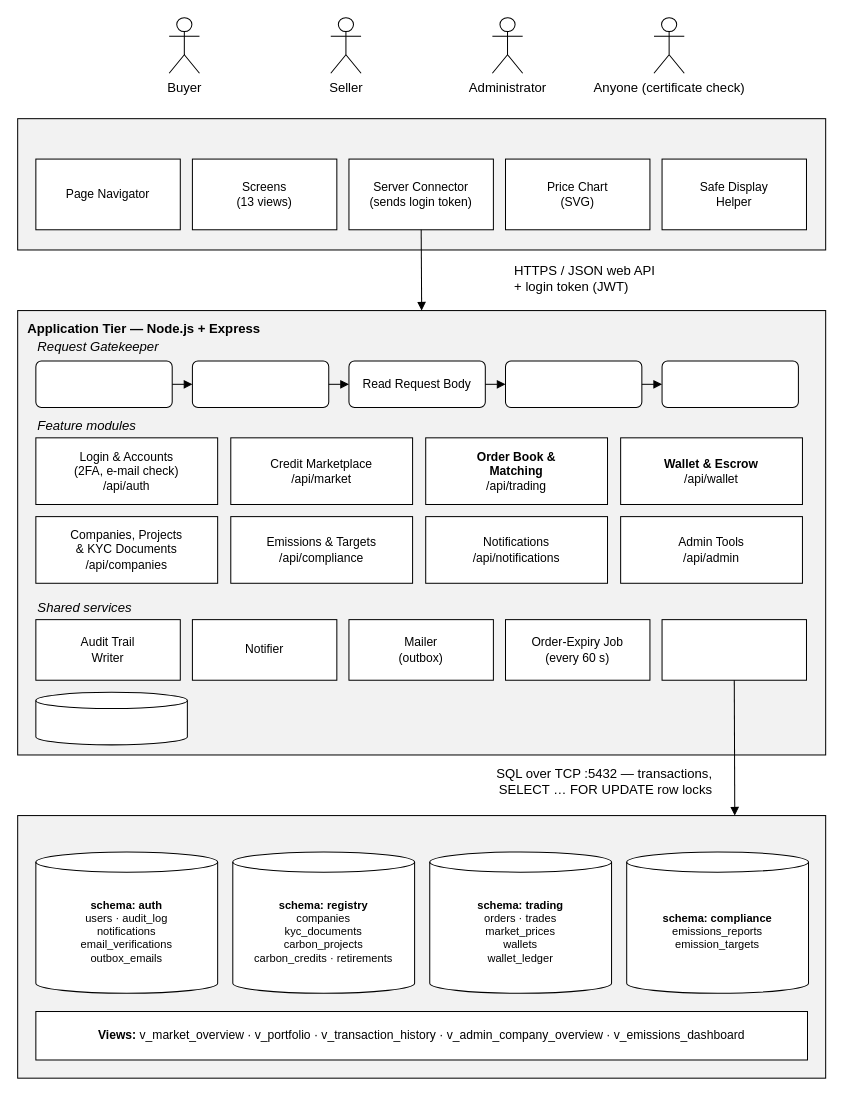
Some shapes in this 843 by 1096 pixel diagram are drawn without their labels. Here are the shapes that lost their labels. From the top down, the box of each, then its label:
(17, 118, 826, 250): Client Tier — Web Browser (Single-Page Application)
(35, 360, 172, 408): CORS
(191, 360, 329, 408): Rate Limiter
(504, 360, 642, 408): Login Token Check
(661, 360, 798, 408): Role Check (admin / seller)
(661, 619, 806, 680): Database Gateway (pool of 20)
(35, 691, 187, 745): KYC File Store (random file names)
(17, 815, 826, 1078): Data Tier — PostgreSQL (database: carbon_credit_platform)
